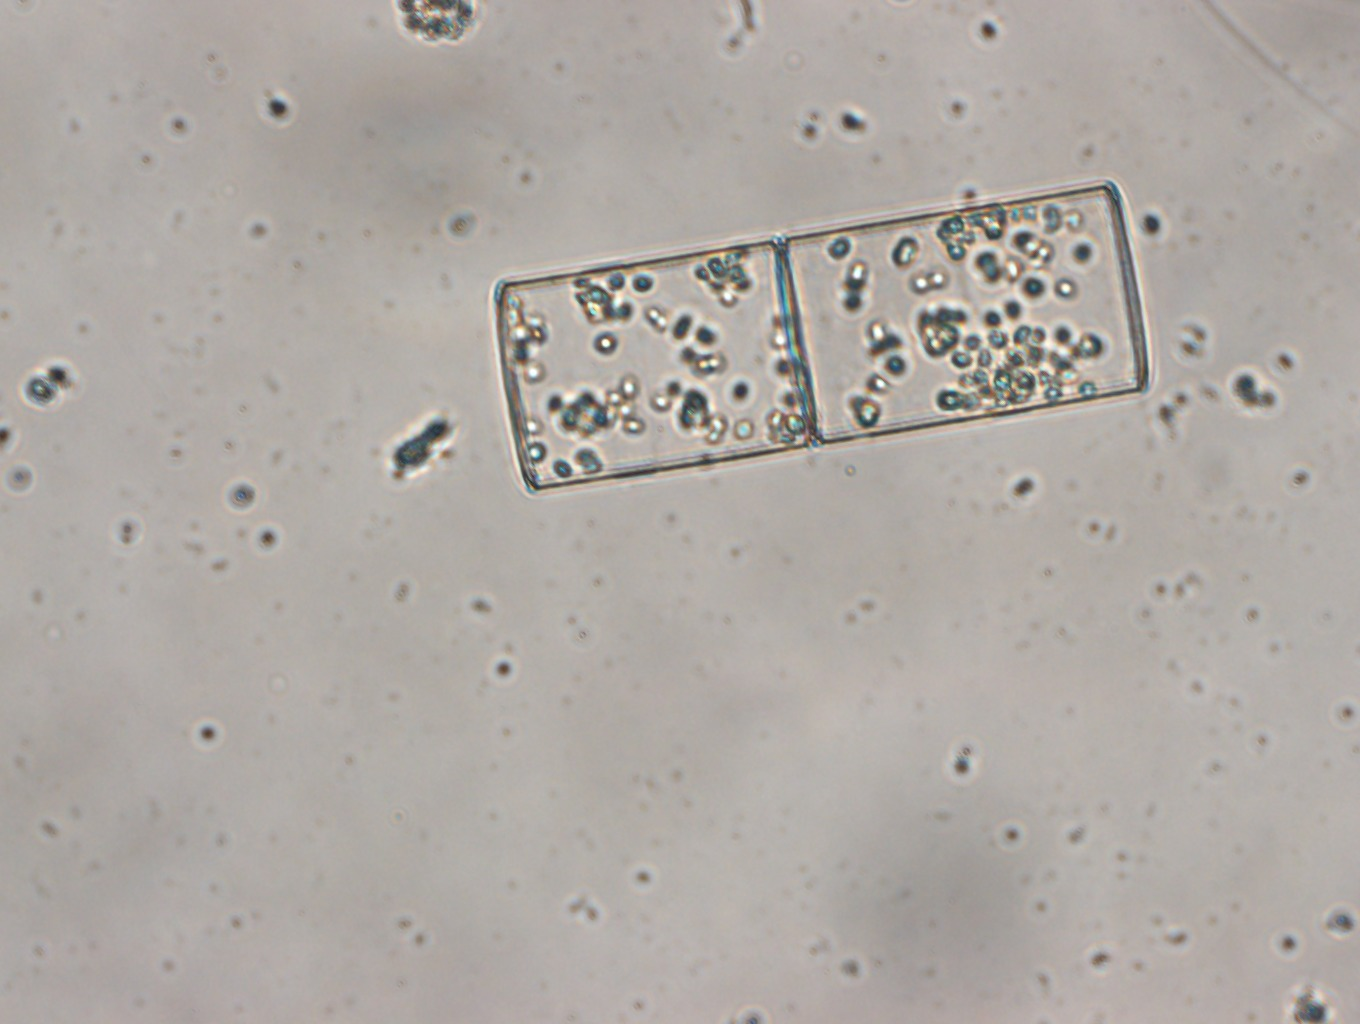guinardia flaccida: (488, 174, 1153, 497)
